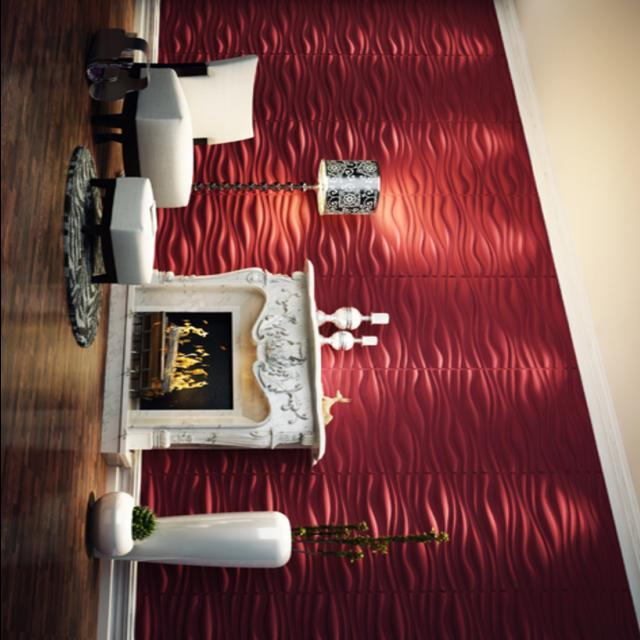Fire: (158, 319, 211, 395)
